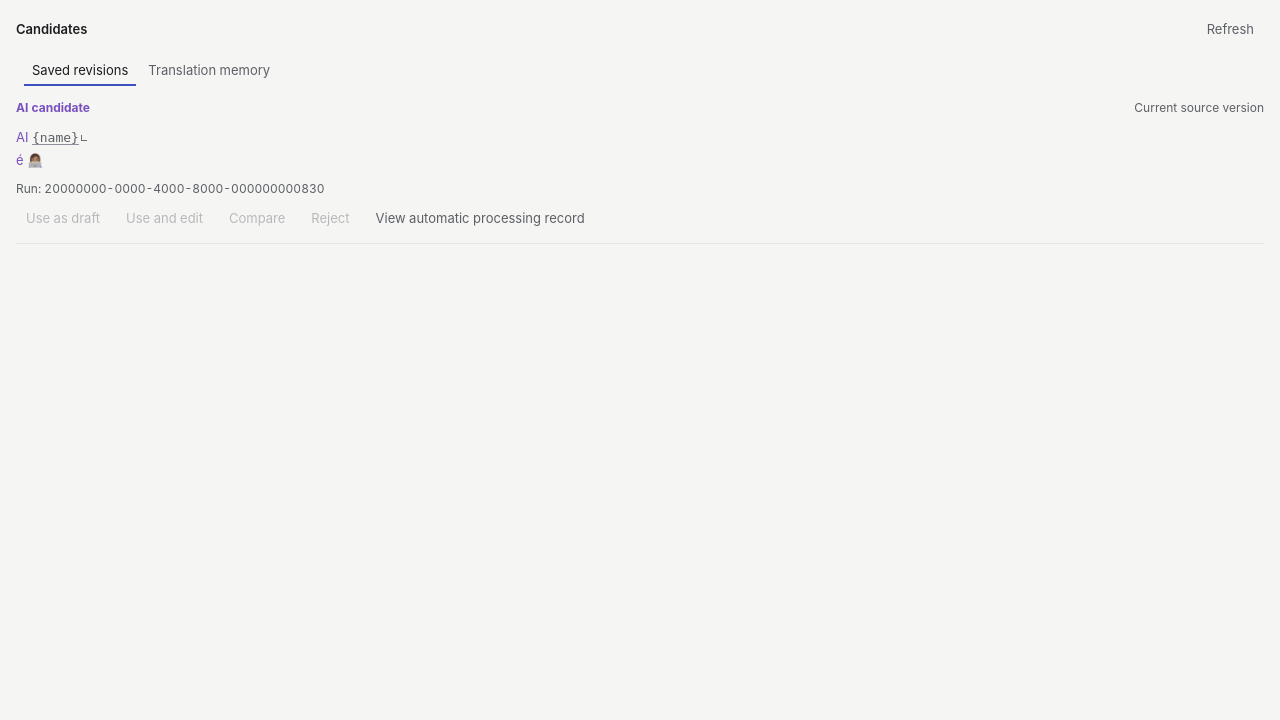
Test case: inspects an exact saved candidate on demand while another mutation is reserved, then returns keyboard focus without writing
What coordinates should you click on to do the following:
click the button "View automatic processing record"
I would click on:
 (480, 218)
Its box is [366,205,595,231].
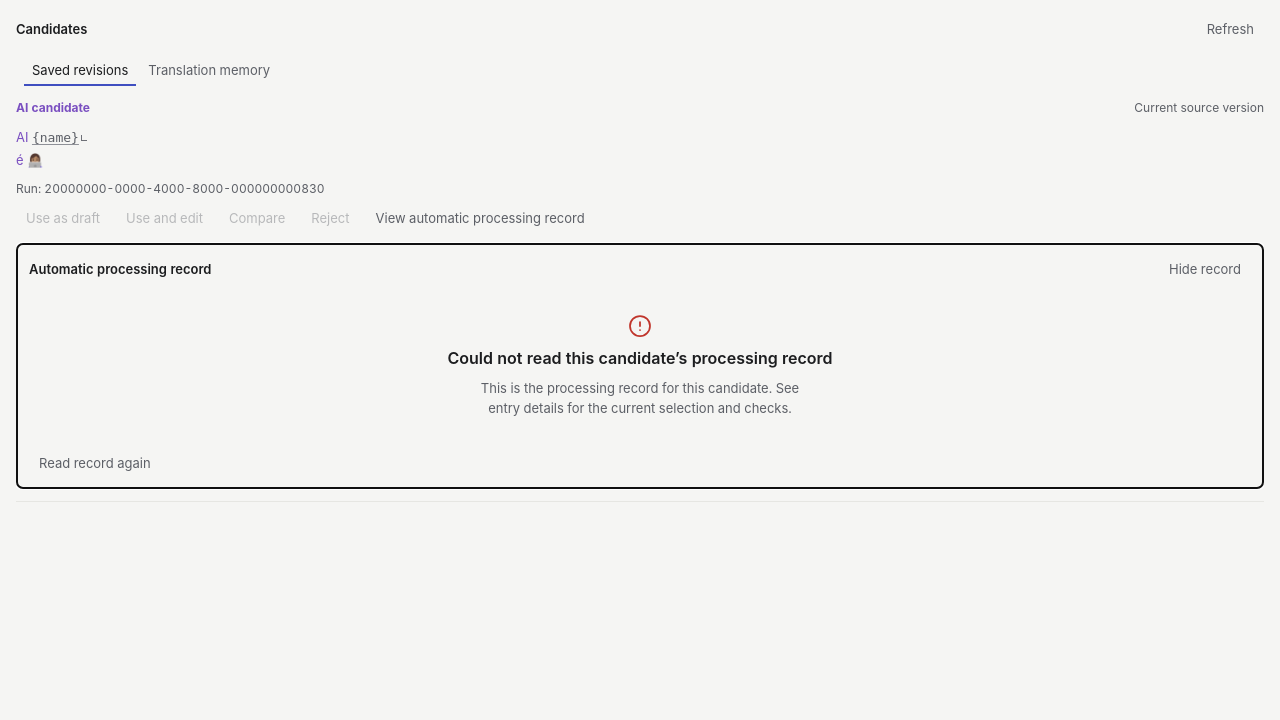
What coordinates should you click on to do the following:
click the button "Hide record"
I would click on:
 (1205, 269)
Its box is [1159,256,1251,282].
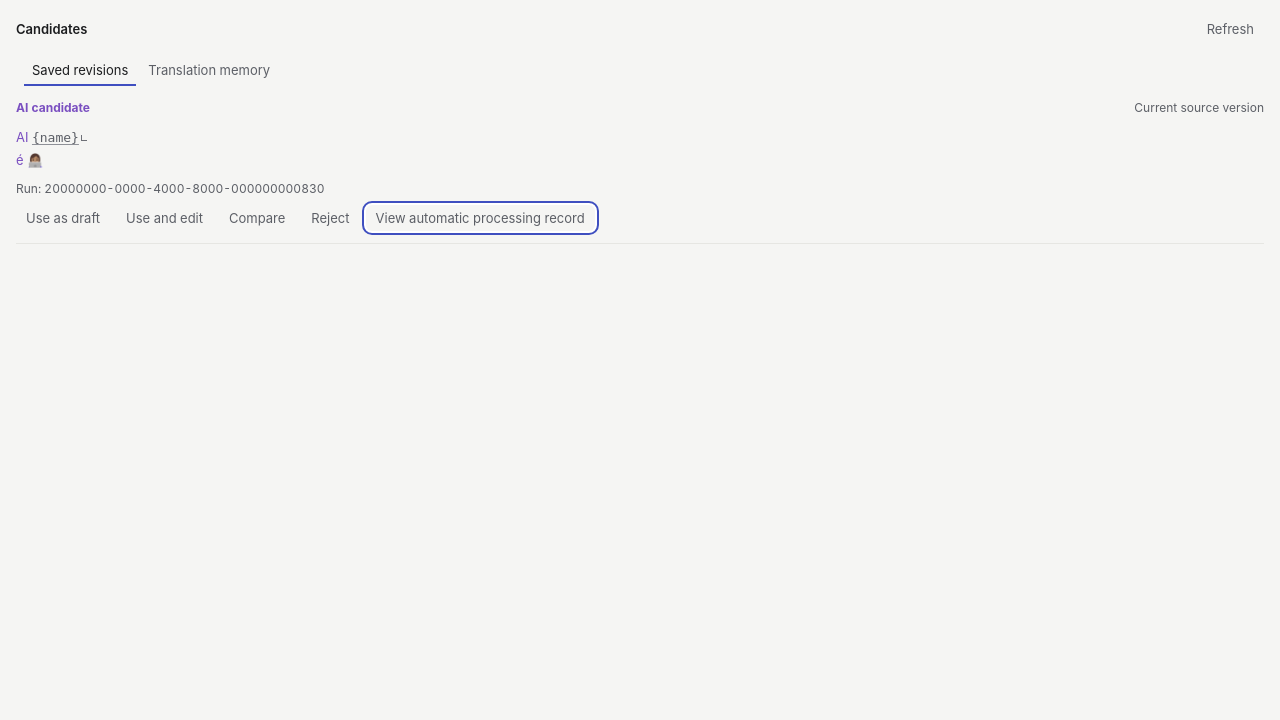
expect the button "View automatic processing record" is collapsed: met, box [366,205,595,231]
